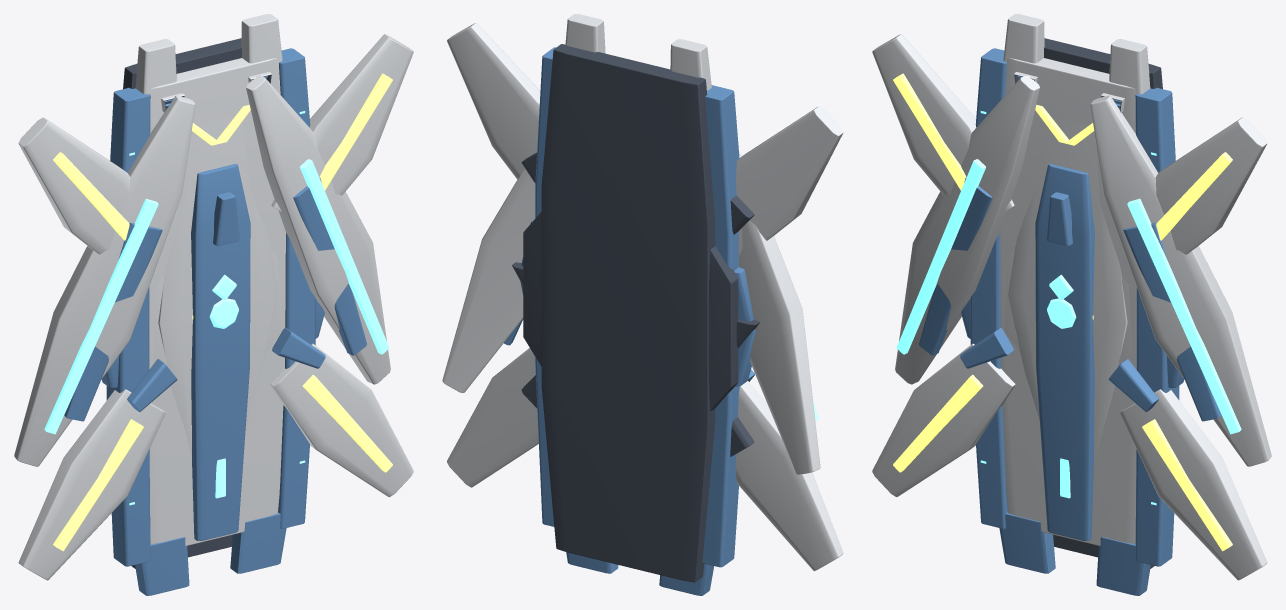
The model's file is mecha_shields_pack.glb.
3 views of the same model, side by side, from view 1: azimuth 30°, elevation 25°; view 2: azimuth 150°, elevation 25°; view 3: azimuth 330°, elevation 25° (orthographic).
Parts seen in each view (by area): view 1: SH03_UpperPlate, SH03_CenterSpine, HS07_WingProjector_L, HS07_WingProjector_R, HS07_FrontAeroCowl, SH09_OrbitalPetal_LL, SH09_OrbitalPetal_LR, SH03_RectEdgeRail_L, SH09_OrbitalPetal_UL, SH09_OrbitalPetal_UR, SH03_RectEdgeRail_R, HS07_WingGlowBar_L (+17 smaller); view 2: SH03_InnerChassis, HS07_WingProjector_L, HS07_WingProjector_R, SH03_RectEdgeRail_L, SH09_OrbitalPetal_LL, SH09_OrbitalPetal_UL, SH09_OrbitalPetal_UR, SH09_OrbitalPetal_LR, SH01_BackFrame, SH03_RectEdgeRail_R, SH03_TopEar_L, SH03_TopEar_R (+5 smaller); view 3: SH03_UpperPlate, SH03_CenterSpine, HS07_WingProjector_R, HS07_WingProjector_L, HS07_FrontAeroCowl, SH09_OrbitalPetal_LR, SH09_OrbitalPetal_LL, SH03_RectEdgeRail_R, SH09_OrbitalPetal_UR, SH09_OrbitalPetal_UL, SH03_RectEdgeRail_L, HS07_WingGlowBar_R (+17 smaller).
Boxes of the visible parts, x1=… form: SH03_UpperPlate: x1=149, y1=58, x2=285, y2=545; SH03_CenterSpine: x1=191, y1=164, x2=250, y2=540; HS07_WingProjector_L: x1=14, y1=95, x2=195, y2=466; HS07_WingProjector_R: x1=246, y1=75, x2=390, y2=384; HS07_FrontAeroCowl: x1=158, y1=117, x2=277, y2=457; SH09_OrbitalPetal_LL: x1=18, y1=389, x2=165, y2=580; SH09_OrbitalPetal_LR: x1=270, y1=343, x2=413, y2=497; SH03_RectEdgeRail_L: x1=106, y1=87, x2=150, y2=566; SH09_OrbitalPetal_UL: x1=18, y1=117, x2=130, y2=254; SH09_OrbitalPetal_UR: x1=271, y1=34, x2=413, y2=211; SH03_RectEdgeRail_R: x1=278, y1=48, x2=315, y2=528; HS07_WingGlowBar_L: x1=44, y1=198, x2=158, y2=434; SH03_InnerChassis: x1=541, y1=44, x2=715, y2=582; HS07_WingProjector_L: x1=739, y1=152, x2=820, y2=474; HS07_WingProjector_R: x1=442, y1=169, x2=535, y2=392; SH03_RectEdgeRail_L: x1=702, y1=85, x2=739, y2=567; SH09_OrbitalPetal_LL: x1=735, y1=381, x2=843, y2=571; SH09_OrbitalPetal_UL: x1=736, y1=106, x2=843, y2=255; SH09_OrbitalPetal_UR: x1=447, y1=23, x2=540, y2=179; SH09_OrbitalPetal_LR: x1=447, y1=348, x2=538, y2=487; SH01_BackFrame: x1=523, y1=212, x2=738, y2=410; SH03_RectEdgeRail_R: x1=535, y1=47, x2=555, y2=526; SH03_TopEar_L: x1=670, y1=39, x2=711, y2=90; SH03_TopEar_R: x1=565, y1=14, x2=605, y2=53; SH03_UpperPlate: x1=1000, y1=58, x2=1136, y2=545; SH03_CenterSpine: x1=1035, y1=163, x2=1094, y2=540; HS07_WingProjector_R: x1=1090, y1=95, x2=1271, y2=466; HS07_WingProjector_L: x1=895, y1=75, x2=1039, y2=384; HS07_FrontAeroCowl: x1=1008, y1=117, x2=1127, y2=462; SH09_OrbitalPetal_LR: x1=1120, y1=389, x2=1267, y2=580; SH09_OrbitalPetal_LL: x1=872, y1=343, x2=1015, y2=497; SH03_RectEdgeRail_R: x1=1135, y1=87, x2=1179, y2=566; SH09_OrbitalPetal_UR: x1=1155, y1=117, x2=1267, y2=254; SH09_OrbitalPetal_UL: x1=872, y1=34, x2=1014, y2=211; SH03_RectEdgeRail_L: x1=970, y1=48, x2=1007, y2=528; HS07_WingGlowBar_R: x1=1127, y1=198, x2=1241, y2=434.
Size of the model in its own units: 0.789 by 1.05 by 0.129.
